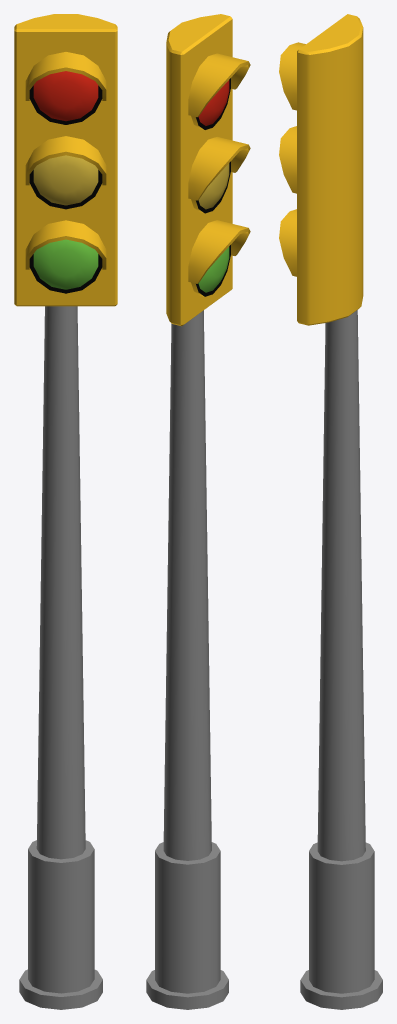
Rendered from pedestrian_light.glb.
The picture shows the model from 3 angles, left to right: view 1: azimuth 90°, elevation 25°; view 2: azimuth 150°, elevation 25°; view 3: azimuth 330°, elevation 25°; orthographic projection.
Parts seen in each view (by area): view 1: FarolaModernaRodonaDe1.014_Palette256_0; view 2: FarolaModernaRodonaDe1.014_Palette256_0; view 3: FarolaModernaRodonaDe1.014_Palette256_0.
Boxes of the visible parts, box(x1,y1,x2,y2) form: FarolaModernaRodonaDe1.014_Palette256_0: box(14, 14, 117, 1009); FarolaModernaRodonaDe1.014_Palette256_0: box(146, 14, 250, 1009); FarolaModernaRodonaDe1.014_Palette256_0: box(279, 14, 382, 1009).
Size of the model in its own units: 0.4047 by 4.33 by 0.4182.
1 material, 1 textured.
